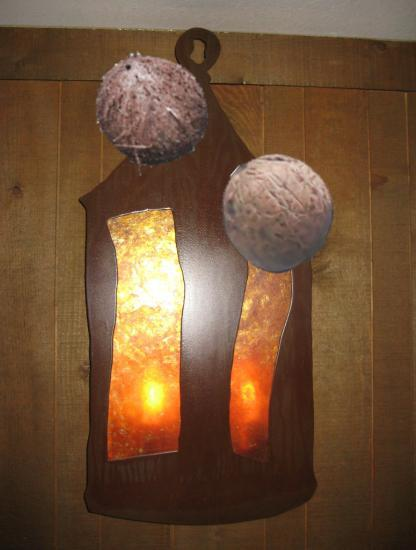Cocos: (93, 50, 215, 172)
Walnut: (218, 153, 335, 270)
